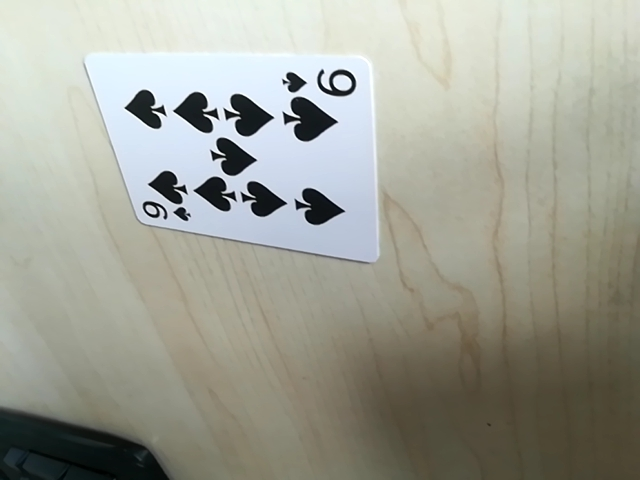ht 9: (280, 60, 362, 98), (136, 201, 187, 227)
